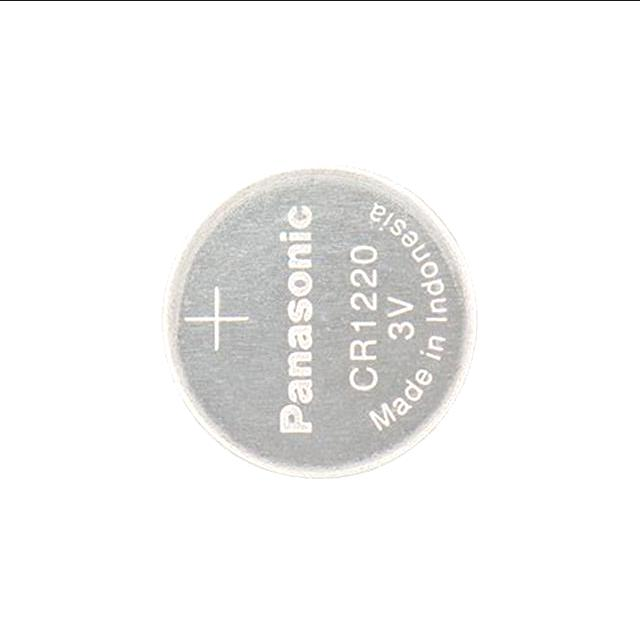COIN: (159, 162, 478, 480)
